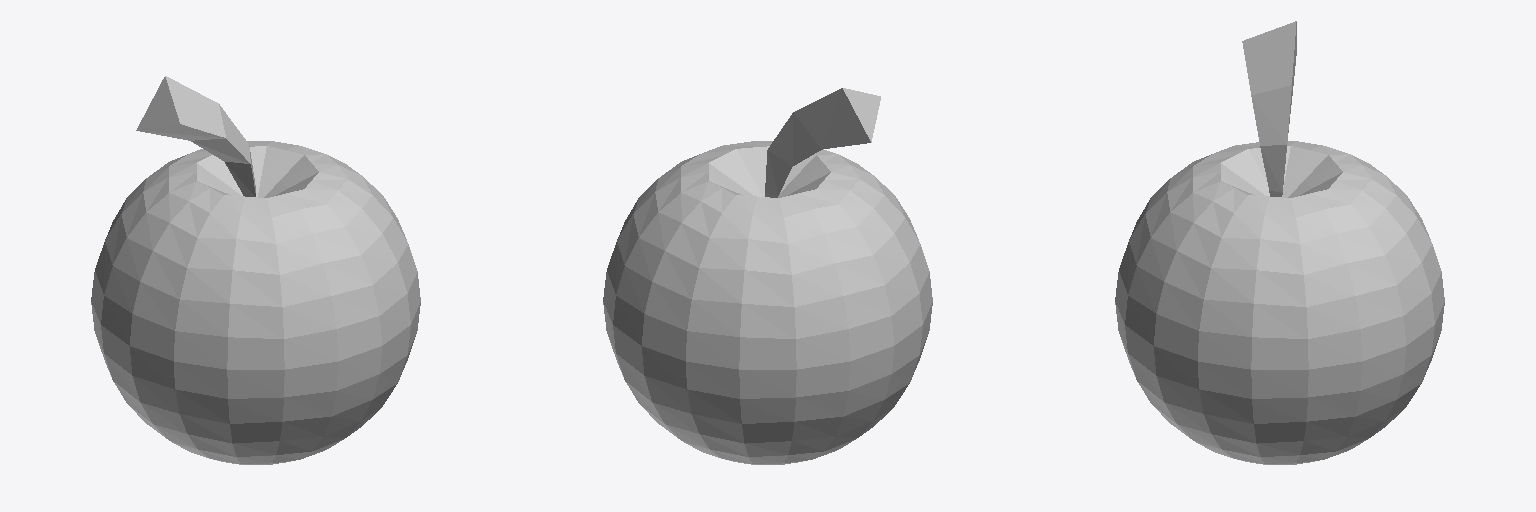
The model's file is aple_02.obj.
3 views of the same model, side by side, from view 1: azimuth 30°, elevation 25°; view 2: azimuth 150°, elevation 25°; view 3: azimuth 270°, elevation 25° (orthographic).
Visible parts, largest first — view 1: Sphere; view 2: Sphere; view 3: Sphere.
Boxes of the visible parts, <box> form: Sphere: <box>91,76,420,464</box>; Sphere: <box>603,88,932,464</box>; Sphere: <box>1115,21,1444,464</box>.
Size of the model in its own units: 1.97 by 2.6 by 2.